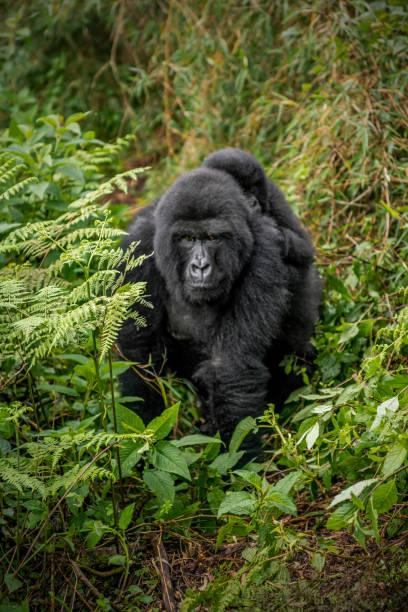goriile_montagne: (118, 162, 302, 406)
